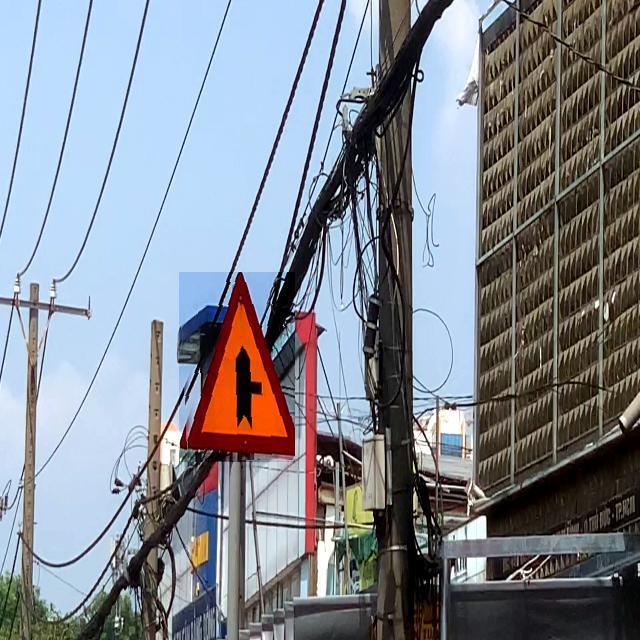W-207b: (179, 273, 295, 463)
